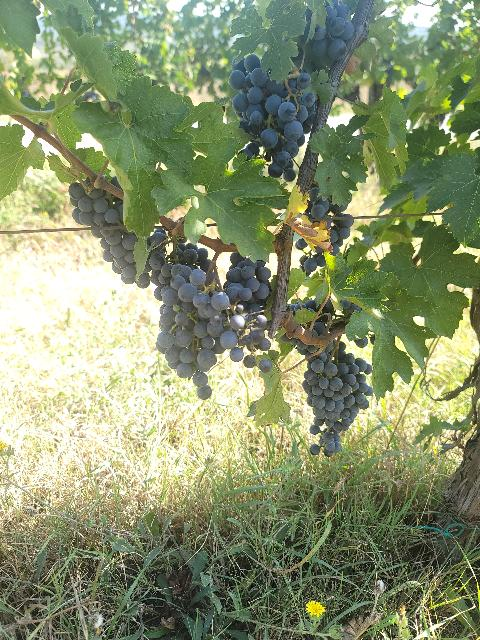grapes: (229, 54, 315, 181), (156, 284, 244, 399), (302, 354, 374, 456), (138, 229, 210, 329), (69, 182, 138, 284), (224, 252, 272, 370), (300, 186, 354, 274)
